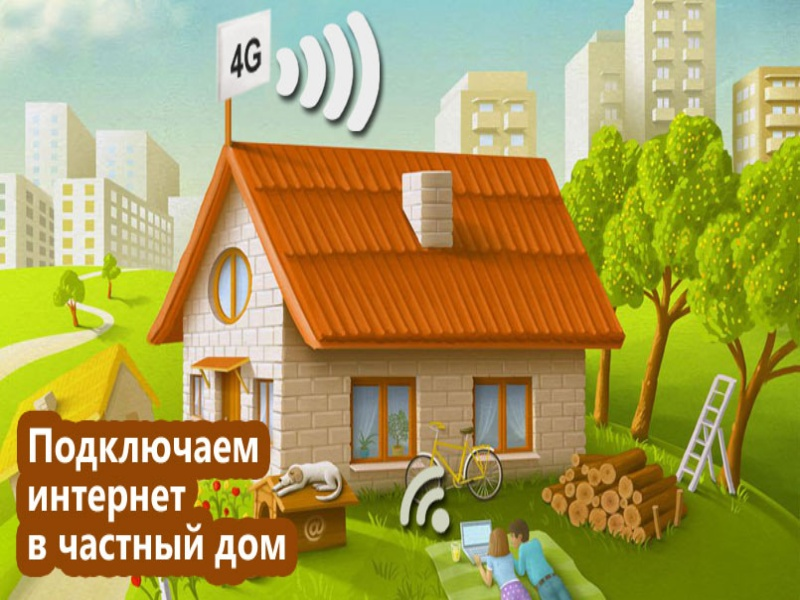window: (351, 374, 421, 459), (476, 381, 534, 462)
